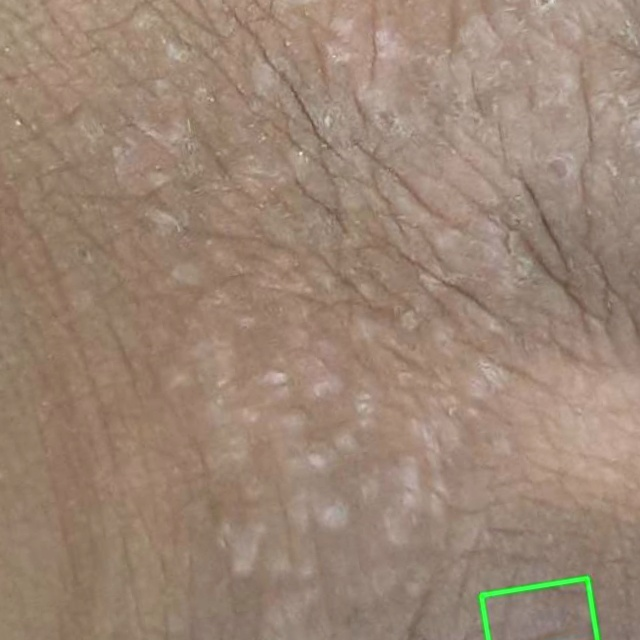Eczema: (481, 578, 597, 639)
